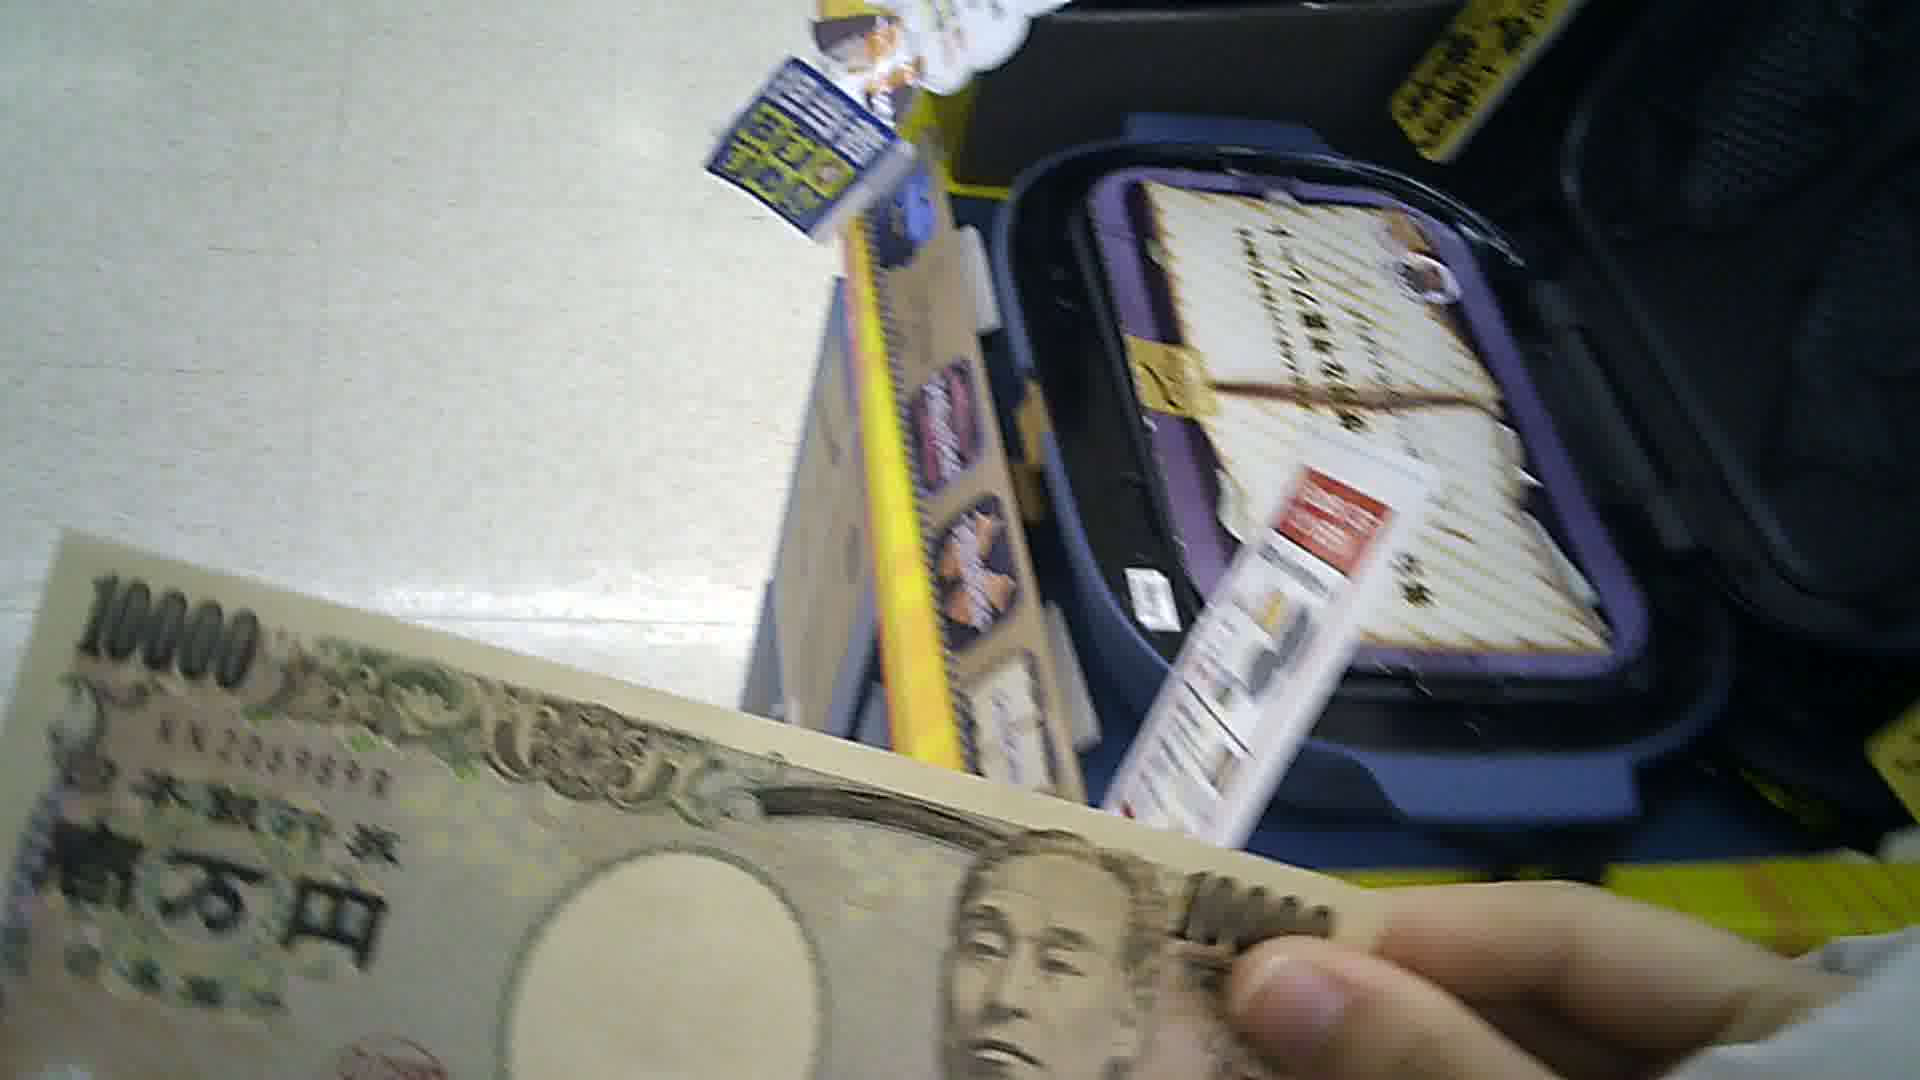10,000 Yen: (7, 516, 1443, 1077)
